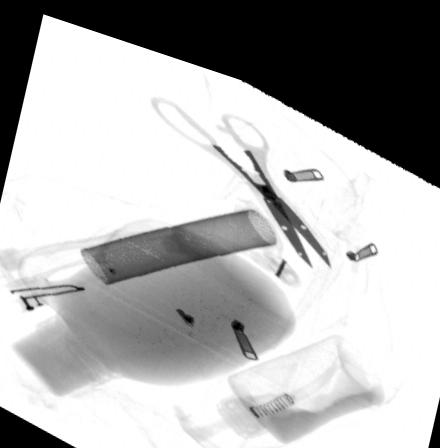Scissors: (149, 85, 331, 248)
